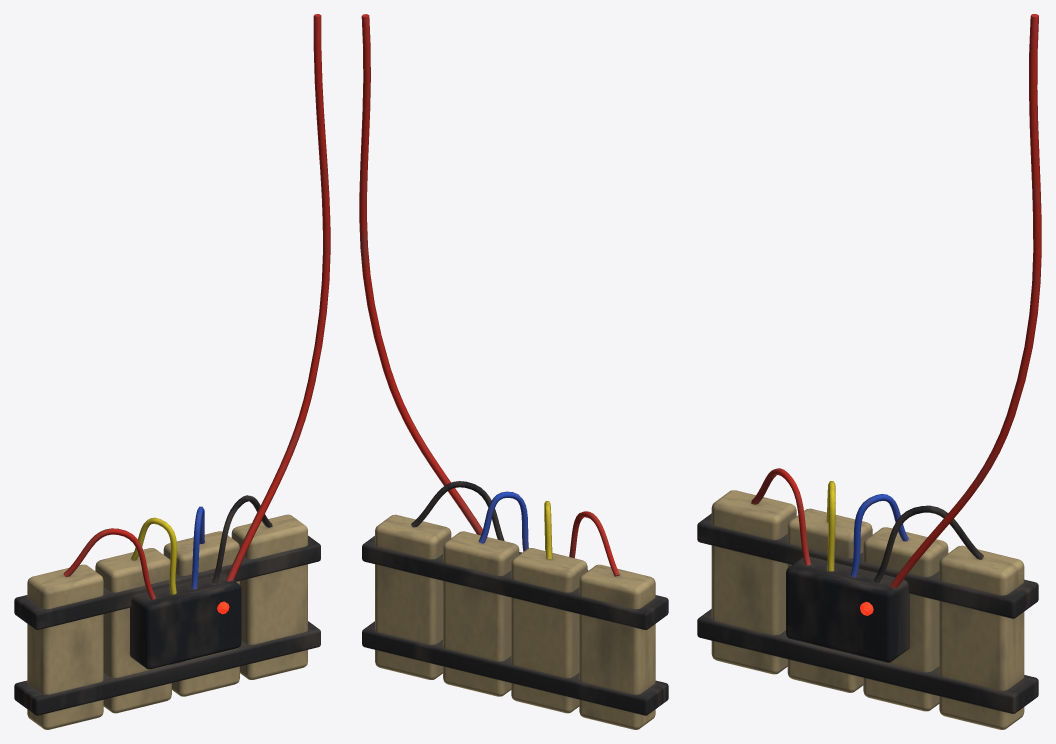
The model's file is lab_ladunek.glb.
3 renders of one model, left to right at view 1: azimuth 30°, elevation 25°; view 2: azimuth 150°, elevation 25°; view 3: azimuth 330°, elevation 25°, orthographic. The views are drawn at different scales.
Visible parts, largest first — view 1: Ladunek; view 2: Ladunek; view 3: Ladunek.
Boxes of the visible parts, x1,y1,x2,y2 form: Ladunek: [14, 14, 330, 729]; Ladunek: [359, 14, 668, 729]; Ladunek: [697, 14, 1041, 729].
Bounding box in the file's own units: 0.4431 × 0.9003 × 0.107.
Materials: 2 (1 with a texture image).
